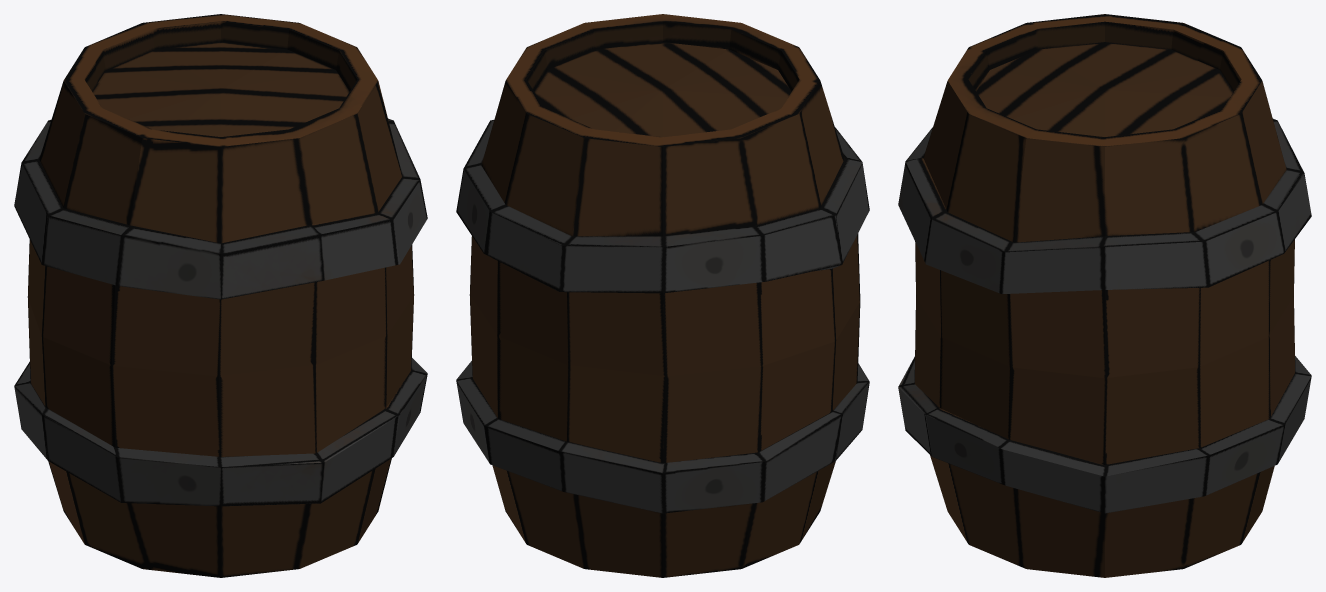
File: Barril.gltf
3 renders of one model, left to right at view 1: azimuth 30°, elevation 25°; view 2: azimuth 150°, elevation 25°; view 3: azimuth 270°, elevation 25°, orthographic.
Visible parts, largest first — view 1: Circle; view 2: Circle; view 3: Circle.
Part boxes in pixels (bbox=[...]): Circle: bbox=[14, 14, 427, 577]; Circle: bbox=[456, 14, 869, 577]; Circle: bbox=[898, 14, 1311, 577].
Size of the model in its own units: 2.65 by 3.07 by 2.65.
2 materials, 2 textured.
